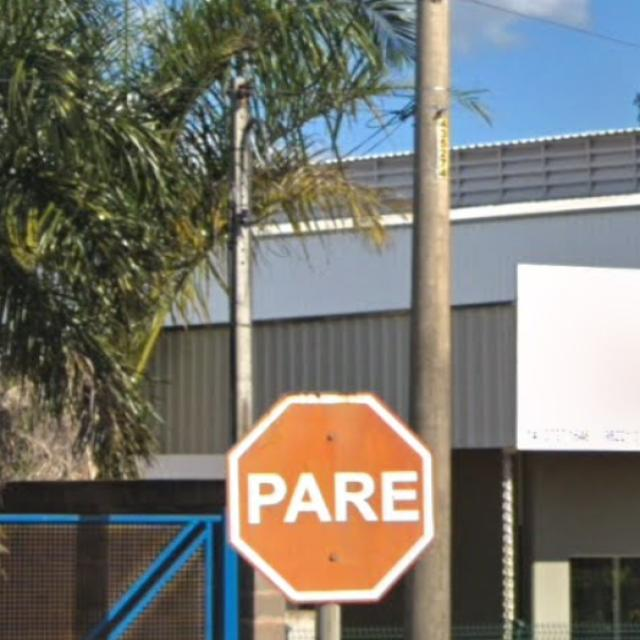stop: (198, 362, 464, 619)
